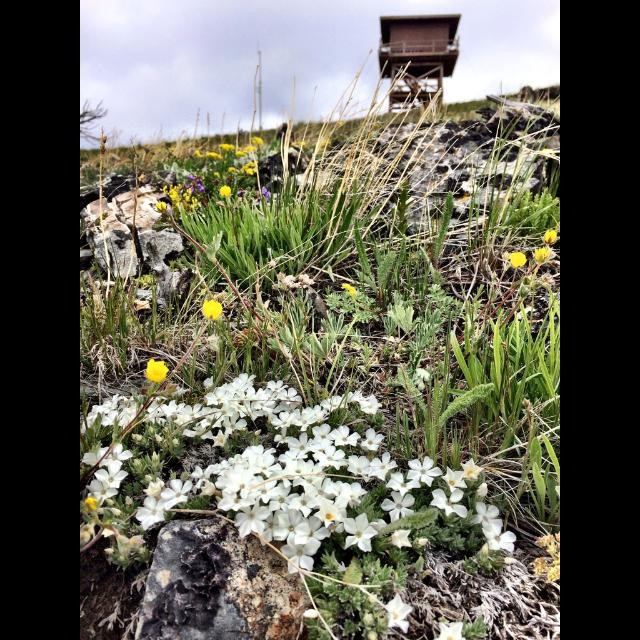Flower: (142, 357, 170, 378), (204, 295, 222, 315), (536, 247, 556, 263), (510, 249, 522, 267), (216, 187, 232, 200), (538, 232, 558, 240)
